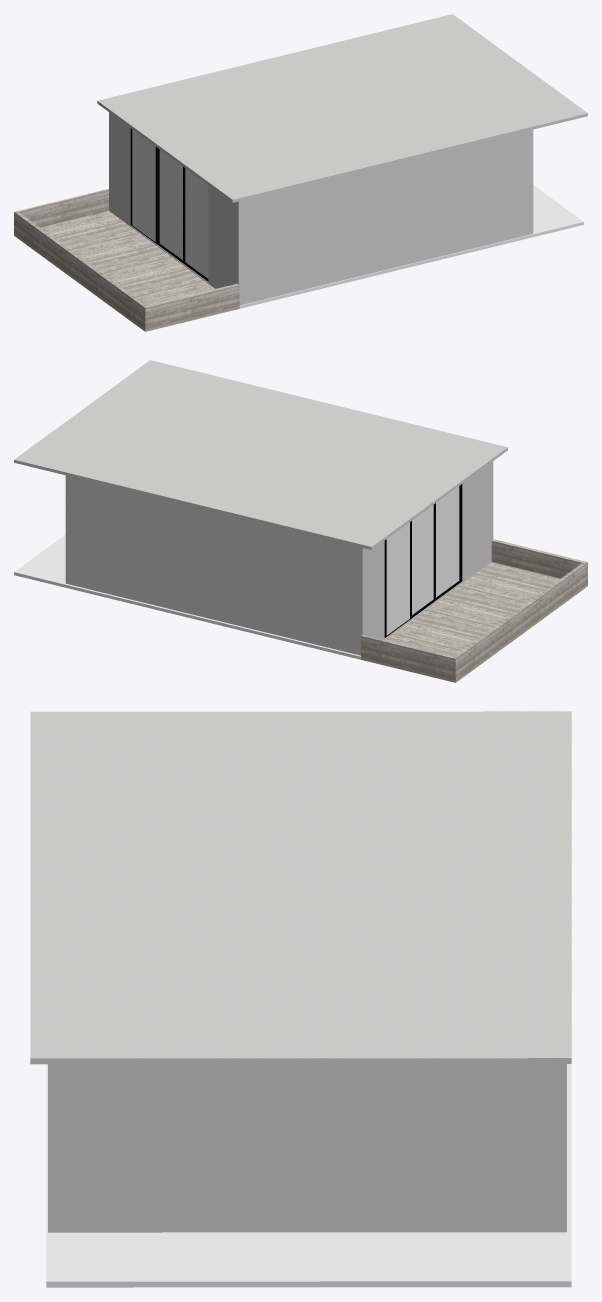
Rendered from FloorPlan227_physics.fbx.
3 views of the same model, one above another, from view 1: azimuth 30°, elevation 25°; view 2: azimuth 150°, elevation 25°; view 3: azimuth 270°, elevation 25° (orthographic). The views are drawn at different scales.
Visible parts, largest first — view 1: FP227:Cube.1171, FP227:Room.015, FP227:Floor, FP227:polySurface3, FP227:polySurface9, FP227:polySurface6, FP227:polySurface1; view 2: FP227:Cube.1171, FP227:Room.015, FP227:Floor, FP227:polySurface3, FP227:polySurface9, FP227:polySurface6, FP227:polySurface1; view 3: FP227:Cube.1171, FP227:Room.015, FP227:Floor.
Part boxes in pixels (bbox=[...]): FP227:Cube.1171: bbox=[97, 14, 587, 202]; FP227:Room.015: bbox=[109, 112, 533, 305]; FP227:Floor: bbox=[14, 185, 583, 331]; FP227:polySurface3: bbox=[132, 129, 155, 241]; FP227:polySurface9: bbox=[185, 168, 208, 278]; FP227:polySurface6: bbox=[159, 149, 182, 259]; FP227:polySurface1: bbox=[130, 128, 158, 243]; FP227:Cube.1171: bbox=[14, 360, 507, 549]; FP227:Room.015: bbox=[65, 461, 493, 655]; FP227:Floor: bbox=[14, 534, 587, 682]; FP227:polySurface3: bbox=[386, 522, 409, 635]; FP227:polySurface9: bbox=[436, 486, 459, 597]; FP227:polySurface6: bbox=[412, 505, 433, 614]; FP227:polySurface1: bbox=[384, 521, 411, 637]; FP227:Cube.1171: bbox=[30, 711, 571, 1064]; FP227:Room.015: bbox=[48, 1064, 566, 1232]; FP227:Floor: bbox=[46, 1064, 571, 1287].
Size of the model in its own units: 1088 by 272 by 581.
